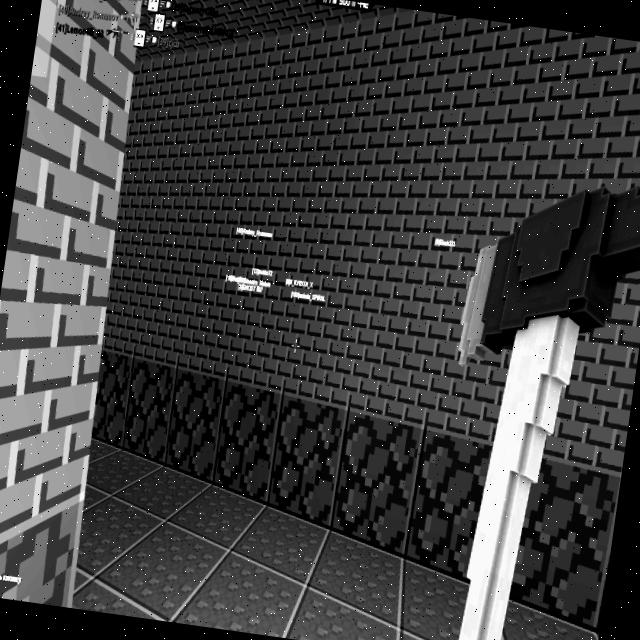Head: (310, 0, 373, 13)
